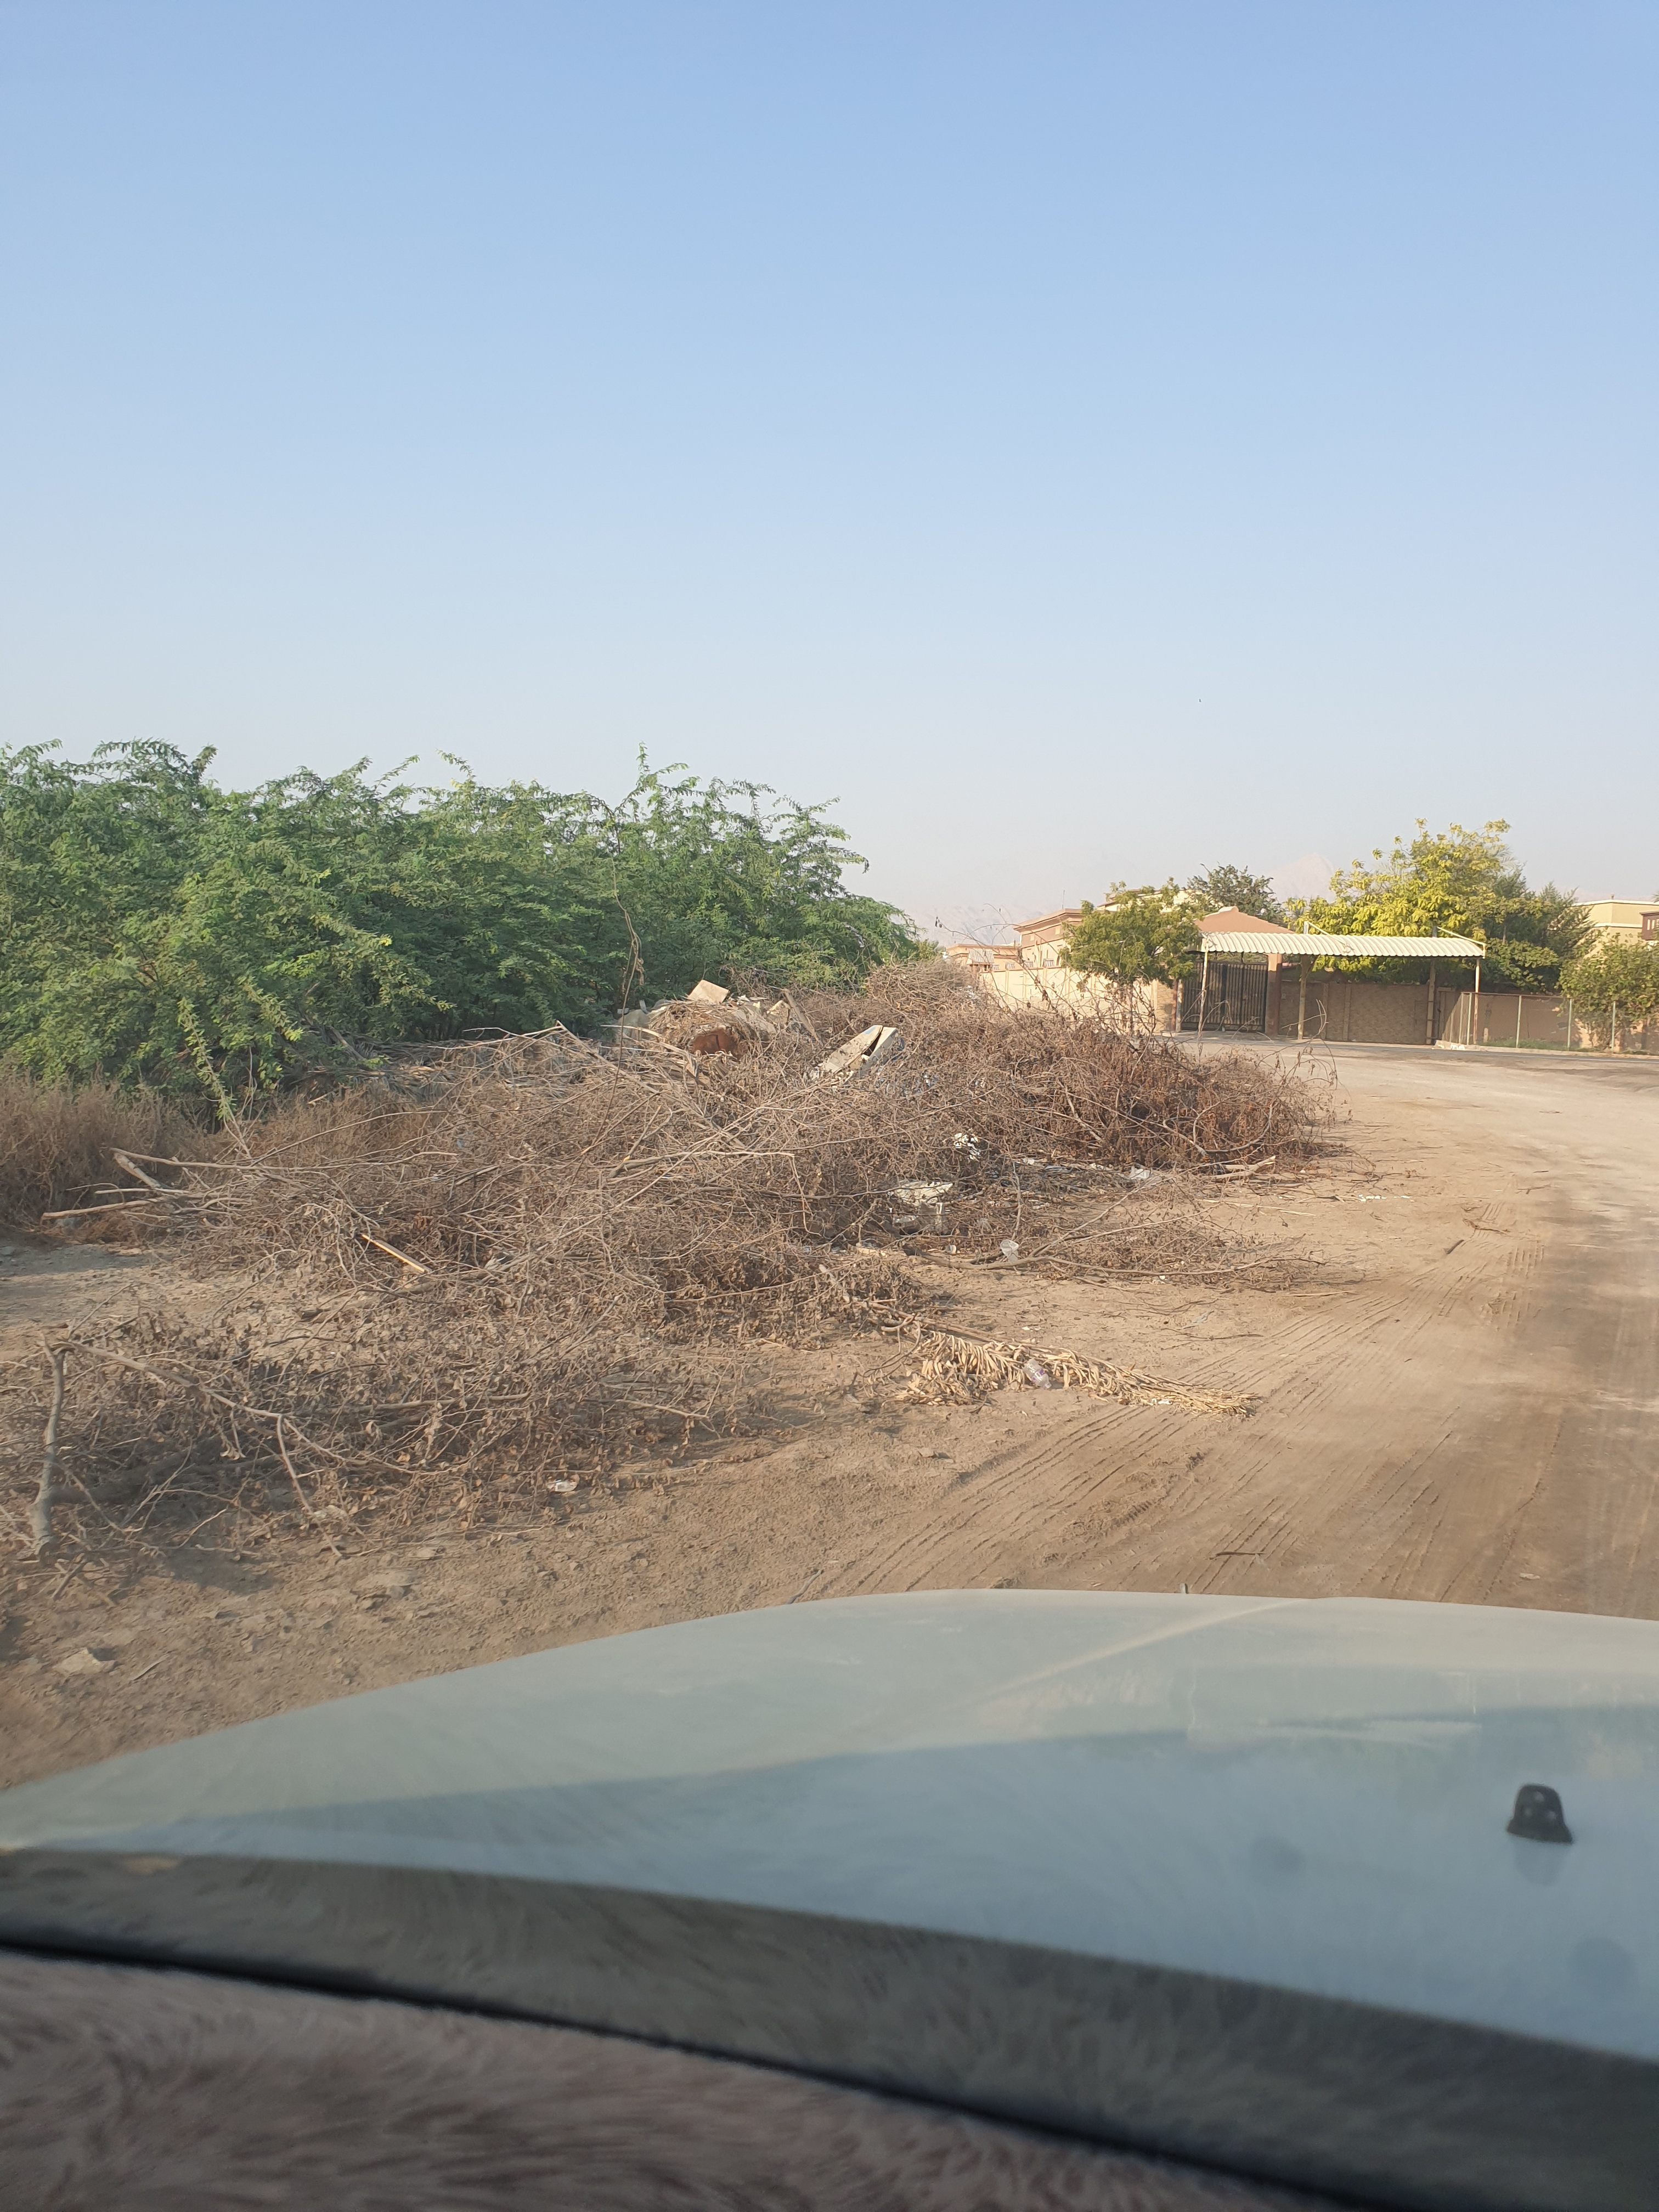fallen_trees: (94, 1362, 918, 1618), (845, 1294, 1317, 1480), (992, 1195, 1412, 1331), (1096, 1137, 1375, 1221)
